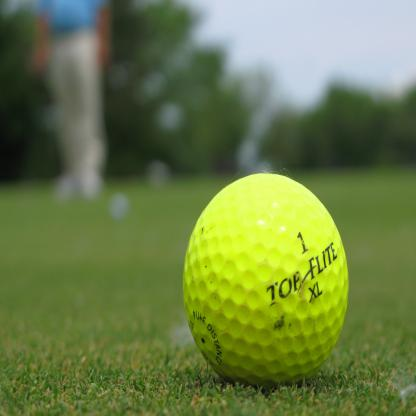Ball: (182, 172, 348, 398)
